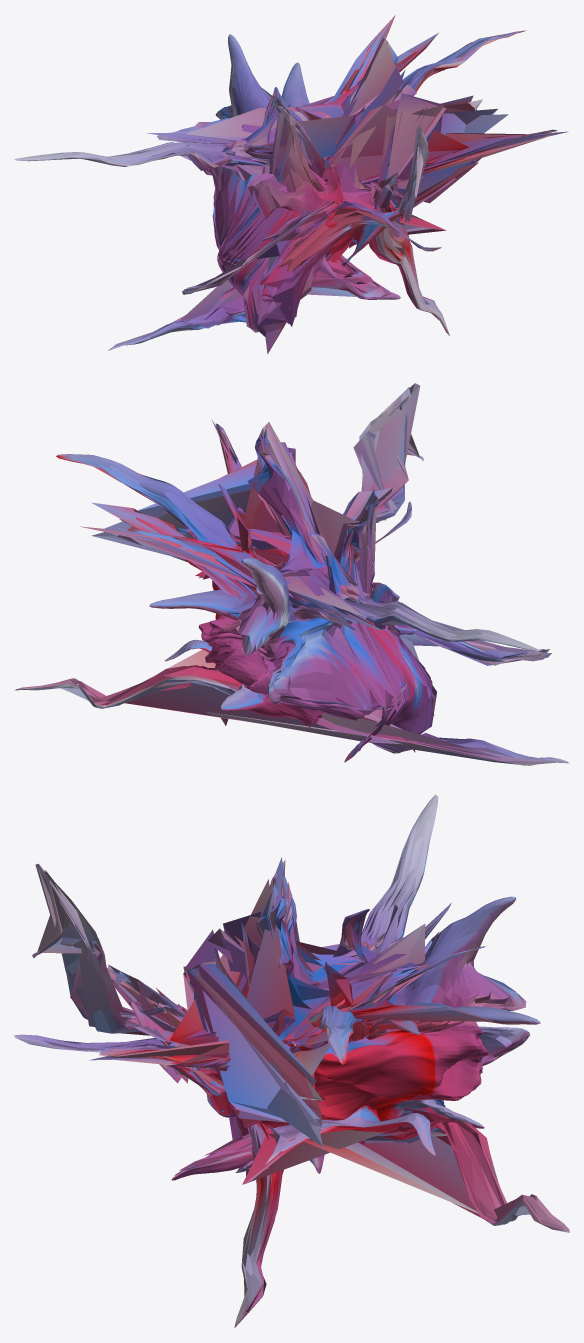
The model's file is 3dbjork.gltf.
The picture shows the model from 3 angles, top to bottom: view 1: azimuth 30°, elevation 25°; view 2: azimuth 150°, elevation 25°; view 3: azimuth 270°, elevation 25°; orthographic projection. The views are drawn at different scales.
Parts seen in each view (by area): view 1: Quad Sphere; view 2: Quad Sphere; view 3: Quad Sphere.
Part boxes in pixels (<box>): Quad Sphere: <box>14,15,568,354</box>; Quad Sphere: <box>14,383,569,765</box>; Quad Sphere: <box>14,794,569,1327</box>.
Size of the model in its own units: 6.92 by 4.17 by 5.05.
